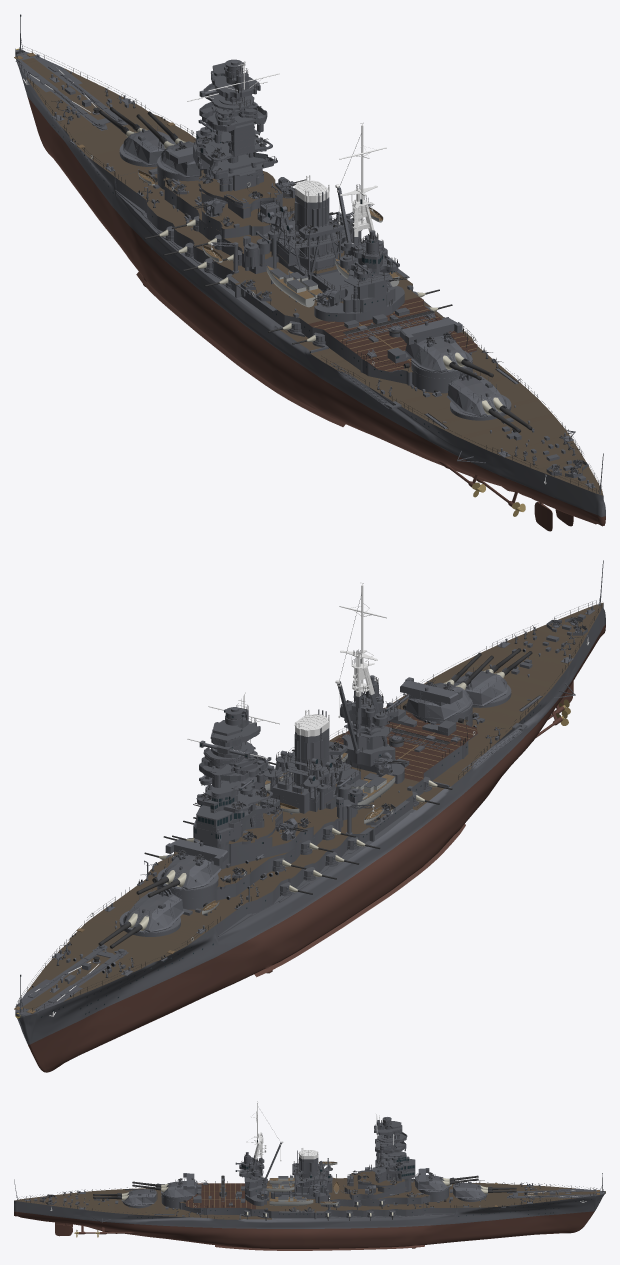
Rendered from nagato.glb.
The picture shows the model from 3 angles, top to bottom: view 1: azimuth 30°, elevation 25°; view 2: azimuth 150°, elevation 25°; view 3: azimuth 270°, elevation 25°; orthographic projection. The views are drawn at different scales.
Parts seen in each view (by area): view 1: Blueprint lofted hull, forecastle-001.mesh, deck-gear.mesh, main-3.yaw.mesh, deckhouse-011.mesh, main-4.yaw.mesh, deckhouse-020.mesh, deckhouse-018.mesh, deckhouse-010.mesh, bilge-keel-port.mesh, main-1.yaw.mesh, deckhouse-094.mesh (+10 smaller); view 2: Blueprint lofted hull, forecastle-001.mesh, deck-gear.mesh, main-3.yaw.mesh, main-2.yaw.mesh, deckhouse-011.mesh, deckhouse-018.mesh, main-1.yaw.mesh, deckhouse-020.mesh, main-4.yaw.mesh, bilge-keel-port.mesh, deckhouse-094.mesh (+3 smaller); view 3: Blueprint lofted hull, forecastle-001.mesh, deck-gear.mesh, deckhouse-011.mesh, deckhouse-018.mesh, deckhouse-020.mesh, main-3.yaw.mesh, main-2.yaw.mesh, bilge-keel-starboard.mesh, main-4.yaw.mesh, main-1.yaw.mesh, motor-boat-2.mesh (+5 smaller).
Boxes of the visible parts, bbox=[...] form: Blueprint lofted hull: bbox=[15, 49, 605, 526]; forecastle-001.mesh: bbox=[115, 167, 472, 393]; deck-gear.mesh: bbox=[14, 52, 595, 488]; main-3.yaw.mesh: bbox=[400, 318, 472, 372]; deckhouse-011.mesh: bbox=[157, 171, 353, 301]; main-4.yaw.mesh: bbox=[447, 372, 508, 416]; deckhouse-020.mesh: bbox=[200, 187, 294, 238]; deckhouse-018.mesh: bbox=[157, 170, 354, 276]; deckhouse-010.mesh: bbox=[314, 286, 404, 322]; bilge-keel-port.mesh: bbox=[136, 272, 345, 426]; main-1.yaw.mesh: bbox=[122, 125, 175, 165]; deckhouse-094.mesh: bbox=[199, 101, 267, 131]; Blueprint lofted hull: bbox=[15, 602, 605, 1072]; forecastle-001.mesh: bbox=[115, 708, 472, 935]; deck-gear.mesh: bbox=[14, 606, 594, 1013]; main-3.yaw.mesh: bbox=[400, 677, 472, 720]; main-2.yaw.mesh: bbox=[160, 839, 227, 889]; deckhouse-011.mesh: bbox=[157, 764, 360, 909]; deckhouse-018.mesh: bbox=[157, 783, 357, 898]; main-1.yaw.mesh: bbox=[123, 887, 184, 932]; deckhouse-020.mesh: bbox=[220, 809, 313, 868]; main-4.yaw.mesh: bbox=[453, 666, 508, 706]; bilge-keel-port.mesh: bbox=[254, 824, 465, 977]; deckhouse-094.mesh: bbox=[199, 755, 266, 781]; Blueprint lofted hull: bbox=[14, 1183, 605, 1248]; forecastle-001.mesh: bbox=[161, 1180, 456, 1219]; deck-gear.mesh: bbox=[24, 1152, 599, 1216]; deckhouse-011.mesh: bbox=[271, 1184, 448, 1207]; deckhouse-018.mesh: bbox=[291, 1177, 448, 1203]; deckhouse-020.mesh: bbox=[344, 1173, 411, 1199]; main-3.yaw.mesh: bbox=[161, 1173, 197, 1197]; main-2.yaw.mesh: bbox=[415, 1168, 449, 1190]; bilge-keel-starboard.mesh: bbox=[215, 1245, 424, 1250]; main-4.yaw.mesh: bbox=[121, 1188, 157, 1205]; main-1.yaw.mesh: bbox=[453, 1182, 487, 1198]; motor-boat-2.mesh: bbox=[269, 1196, 313, 1206].
Bounding box in the file's own units: 38.92 × 55.42 × 225.
Materials: 16 (12 with a texture image).
